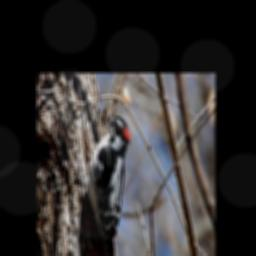Woodpecker: (86, 111, 132, 256)
